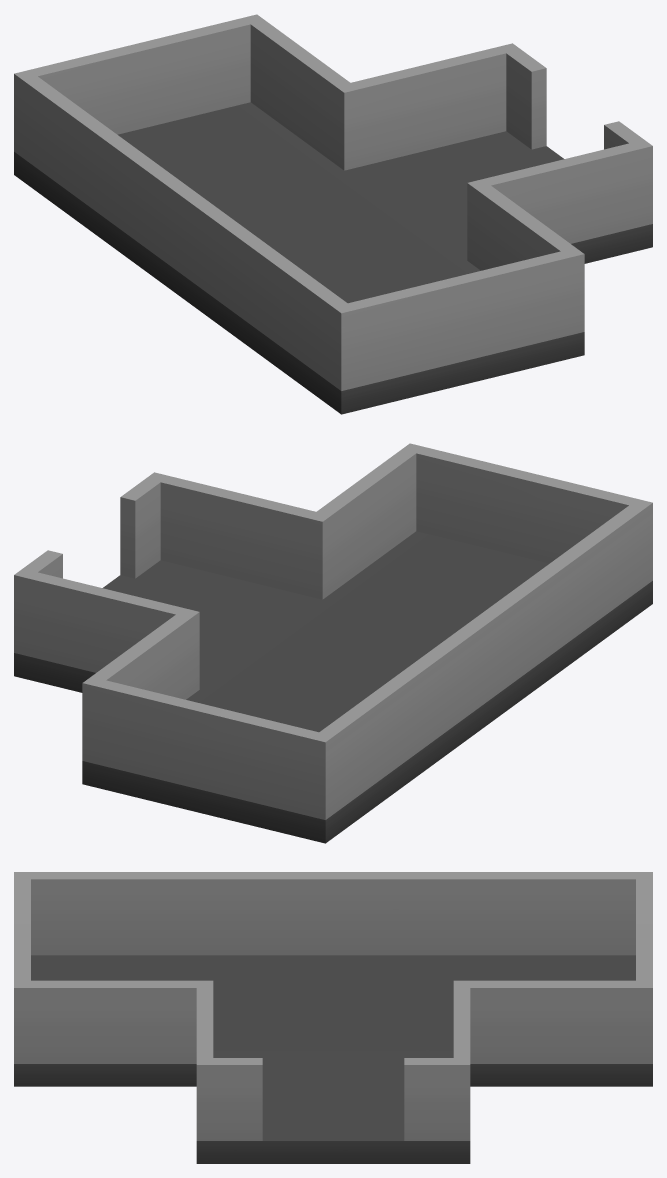
Rendered from Fundaments_3_1.fbx.
The picture shows the model from 3 angles, top to bottom: view 1: azimuth 30°, elevation 25°; view 2: azimuth 150°, elevation 25°; view 3: azimuth 270°, elevation 25°; orthographic projection. The views are drawn at different scales.
Parts seen in each view (by area): view 1: Fundaments_3_1; view 2: Fundaments_3_1; view 3: Fundaments_3_1.
Part boxes in pixels (x1=…): Fundaments_3_1: x1=14, y1=14, x2=652, y2=414; Fundaments_3_1: x1=14, y1=443, x2=652, y2=843; Fundaments_3_1: x1=14, y1=872, x2=652, y2=1163.
Size of the model in its own units: 1000 by 239 by 1400.
